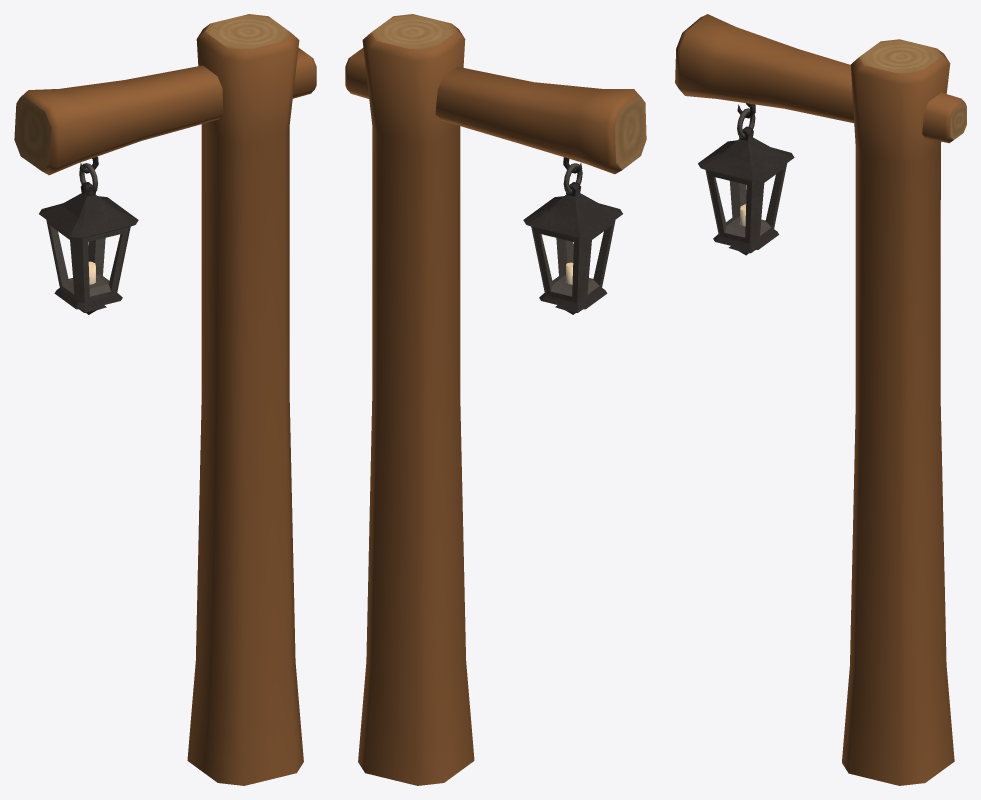
Rendered from Lamp_Post.obj.
3 renders of one model, left to right at view 1: azimuth 30°, elevation 25°; view 2: azimuth 150°, elevation 25°; view 3: azimuth 330°, elevation 25°, orthographic. The views are drawn at different scales.
Parts seen in each view (by area): view 1: Cube.086_Cube.275, Cube.087_Cube.276, Cube.085_Cube.274; view 2: Cube.086_Cube.275, Cube.087_Cube.276, Cube.085_Cube.274; view 3: Cube.086_Cube.275, Cube.087_Cube.276, Cube.085_Cube.274.
Boxes of the visible parts, x1,y1,x2,y2 form: Cube.086_Cube.275: [187, 14, 303, 785]; Cube.087_Cube.276: [14, 48, 316, 175]; Cube.085_Cube.274: [39, 182, 138, 314]; Cube.086_Cube.275: [358, 14, 474, 785]; Cube.087_Cube.276: [345, 48, 646, 174]; Cube.085_Cube.274: [523, 182, 622, 314]; Cube.086_Cube.275: [842, 39, 954, 785]; Cube.087_Cube.276: [675, 14, 966, 143]; Cube.085_Cube.274: [698, 126, 794, 255].
Bounding box in the file's own units: 0.8961 × 2.24 × 0.2778.
